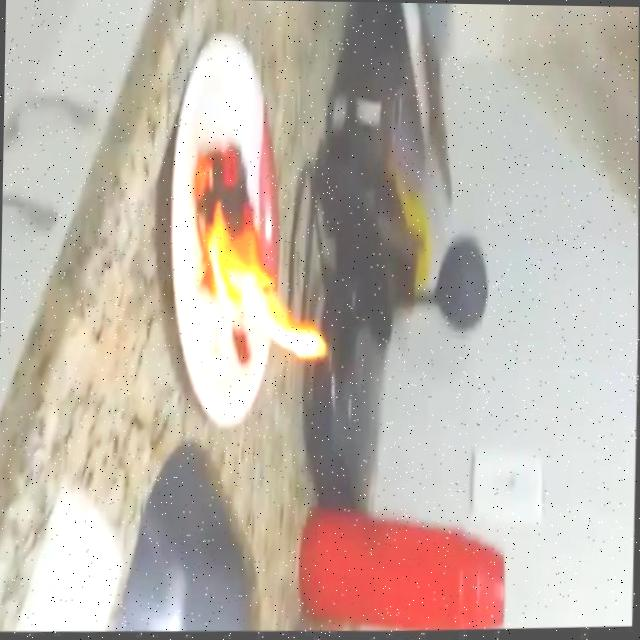fire: (185, 139, 335, 369)
